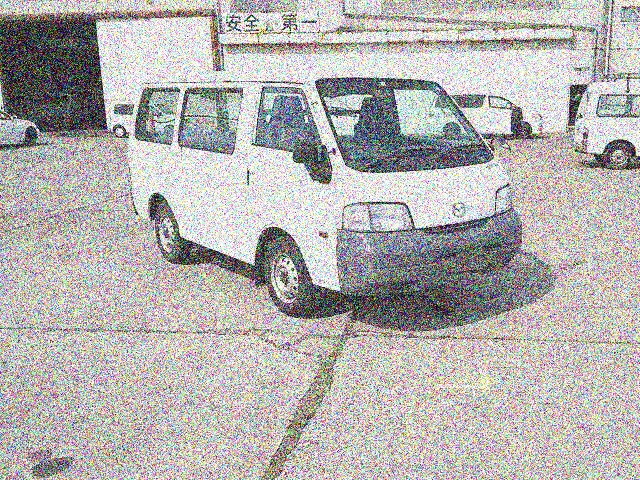van: (133, 71, 526, 302)
